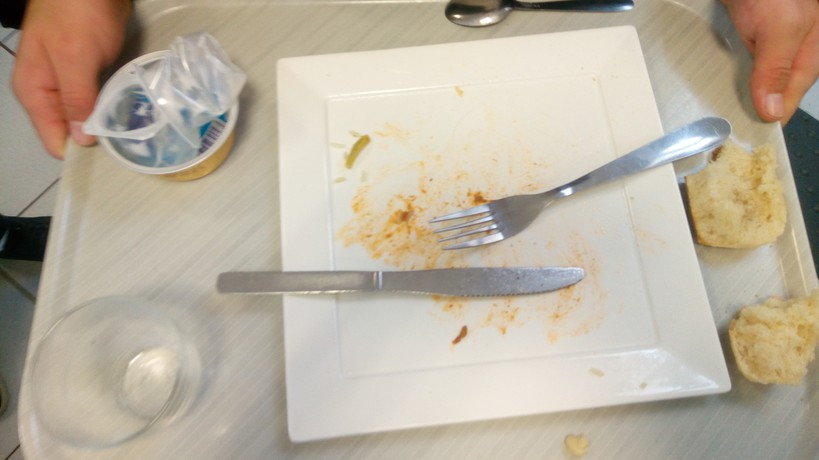cup: (32, 298, 201, 460)
cutlery: (428, 108, 735, 242), (203, 249, 611, 305)
orga: (668, 120, 798, 276), (717, 286, 819, 385)
trash: (86, 48, 251, 190)
